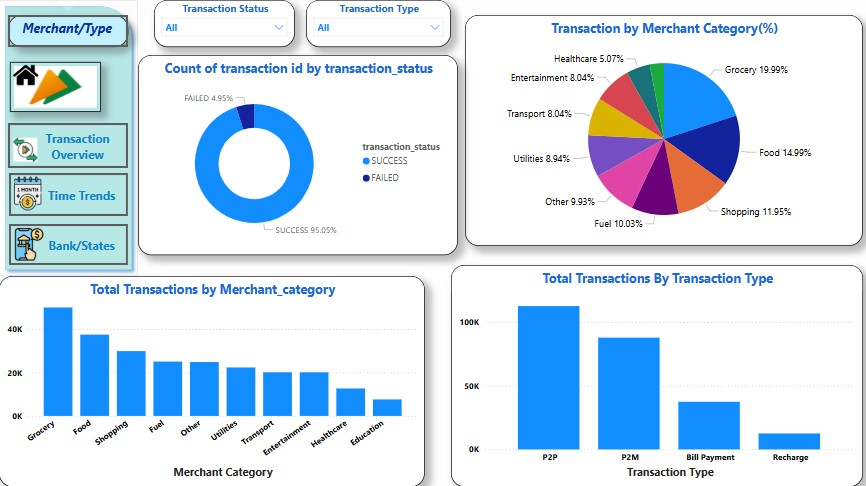

Layout of this report page (visuals, bound fields, positions):
{"tool":"powerbi","page":{"name":"Mecharnt/Type","canvas":[1280,720],"ordinal":3},"visuals":[{"type":"columnChart","title":"Total Transactions by Merchant_category","fields":{"Y":["CountNonNull(Upi.transaction id)"],"Category":["Upi.merchant_category"]},"box":[0,403.9,623.4,308.8],"z":0},{"type":"columnChart","title":"Total Transactions By Transaction Type","fields":{"Y":["CountNonNull(Upi.transaction id)"],"Category":["Upi.transaction type"]},"box":[661.5,387.8,602.9,324.9],"z":1000},{"type":"pieChart","title":"Transaction by Merchant Category(%)","fields":{"Category":["Upi.merchant_category"],"Y":["CountNonNull(Upi.transaction id)"]},"box":[682,22,582.4,338],"z":2000},{"type":"shape","box":[0,0,203.4,403.9],"z":3000},{"type":"slicer","title":"Transaction Status","fields":{"Values":["Upi.transaction_status"]},"box":[226.8,0,206.3,68.8],"z":4000},{"type":"slicer","title":"Transaction Type","fields":{"Values":["Upi.transaction type"]},"box":[449.3,0,212.2,68.8],"z":5000},{"type":"donutChart","title":"Transaction by Transaction_status","fields":{"Category":["Upi.transaction_status"],"Y":["Count(Upi.transaction id)"]},"box":[203.4,80.5,468.3,292.7],"z":6000},{"type":"actionButton","box":[13.2,180,175.6,65.9],"z":7000},{"type":"image","box":[16.1,191.7,45.4,54.1],"z":8000},{"type":"actionButton","box":[14.6,327.8,174.1,60],"z":9000},{"type":"image","box":[14.6,316.1,58.5,83.4],"z":10000},{"type":"actionButton","box":[14.6,253.2,174.1,62.9],"z":11000},{"type":"image","box":[0,253.2,83.4,60],"z":12000},{"type":"image","box":[16.1,90.7,133.2,73.2],"z":13000},{"type":"textbox","box":[13.2,22,175.6,46.8],"z":14000},{"type":"actionButton","box":[13.2,22,175.6,46.8],"z":15000},{"type":"image","box":[14.6,86.3,48.3,46.8],"z":16000}]}

Visuals, with their boxes in screenshot pixels (x1, y1, x2, y2), scaled from the page's 1280x720 canvas onto the 866x486 screenshot:
"Total Transactions by Merchant_category" columnChart: 0:273:422:481
"Total Transactions By Transaction Type" columnChart: 448:262:855:481
"Transaction by Merchant Category(%)" pieChart: 461:15:855:243
shape: 0:0:138:273
"Transaction Status" slicer: 153:0:293:46
"Transaction Type" slicer: 304:0:448:46
"Transaction by Transaction_status" donutChart: 138:54:454:252
actionButton: 9:122:128:166
image: 11:129:42:166
actionButton: 10:221:128:262
image: 10:213:49:270
actionButton: 10:171:128:213
image: 0:171:56:211
image: 11:61:101:111
textbox: 9:15:128:46
actionButton: 9:15:128:46
image: 10:58:43:90
